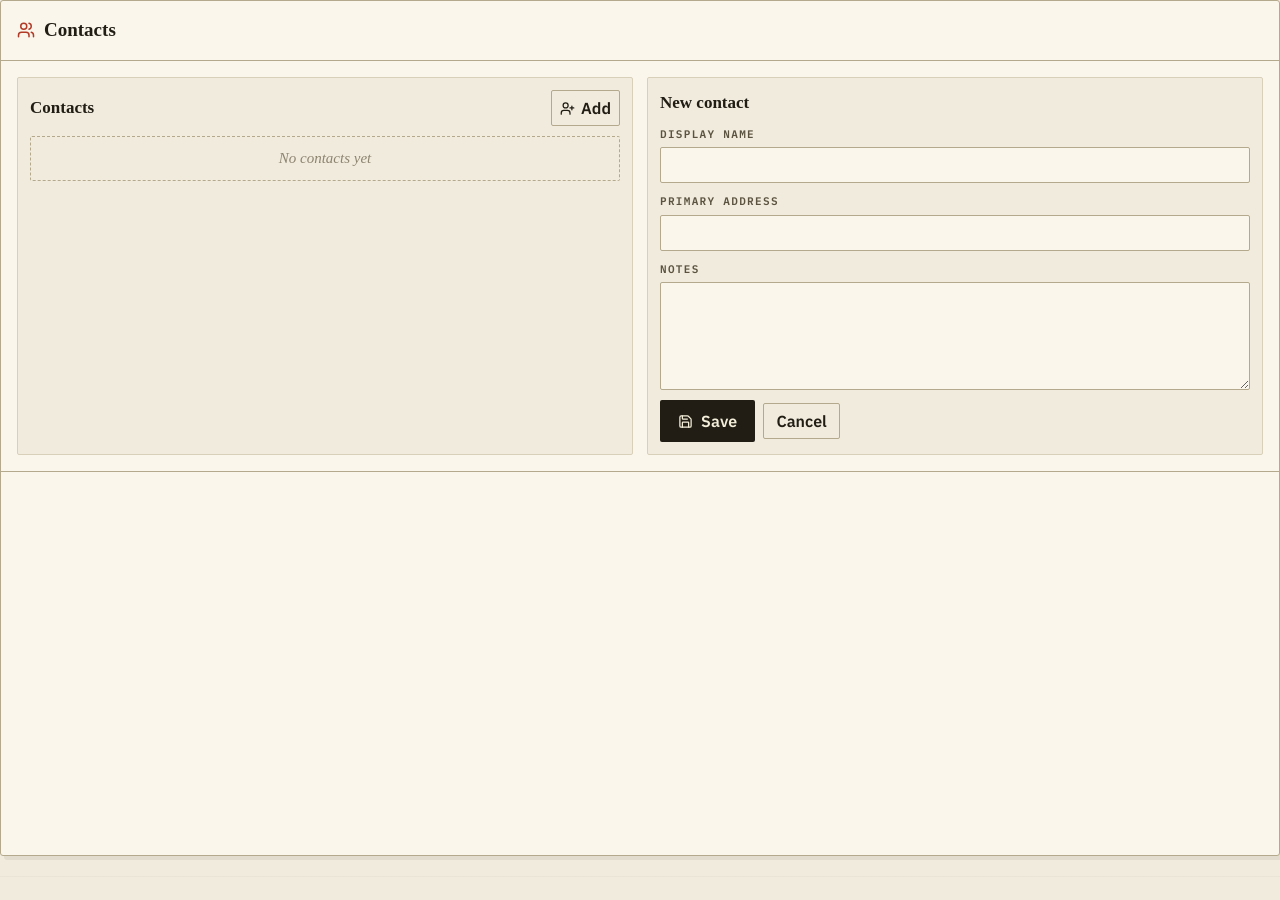
Test case: ContactsView › creates contacts
Expected: the text "No contacts yet" is shown, [30,136,620,180]
Type "Support" into the field labelled "Display name" at {"x": 955, "y": 165}, box [660,147,1250,183]
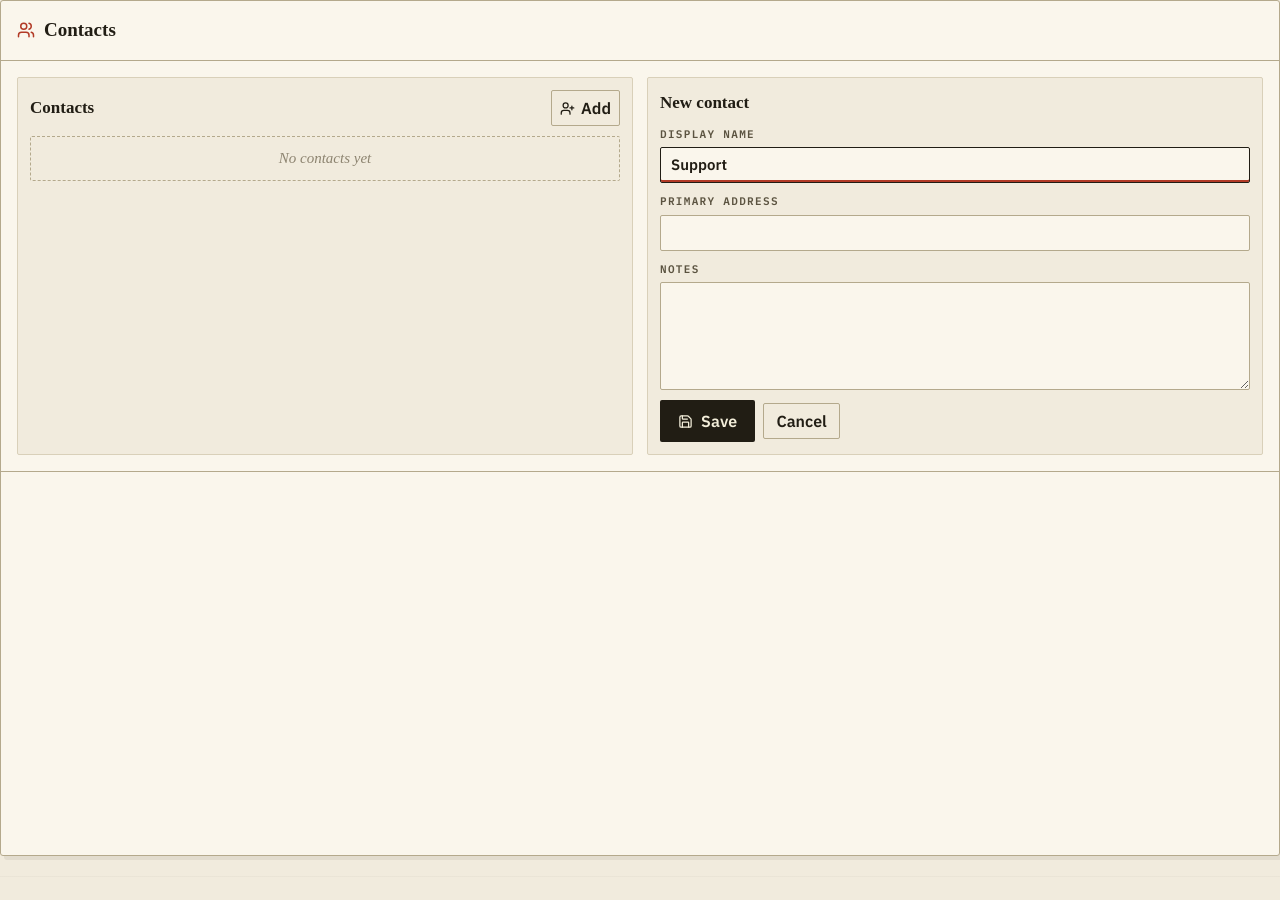
Type "Support@Ahara.IO" into the field labelled "Primary address" at {"x": 955, "y": 232}, box [660,214,1250,250]
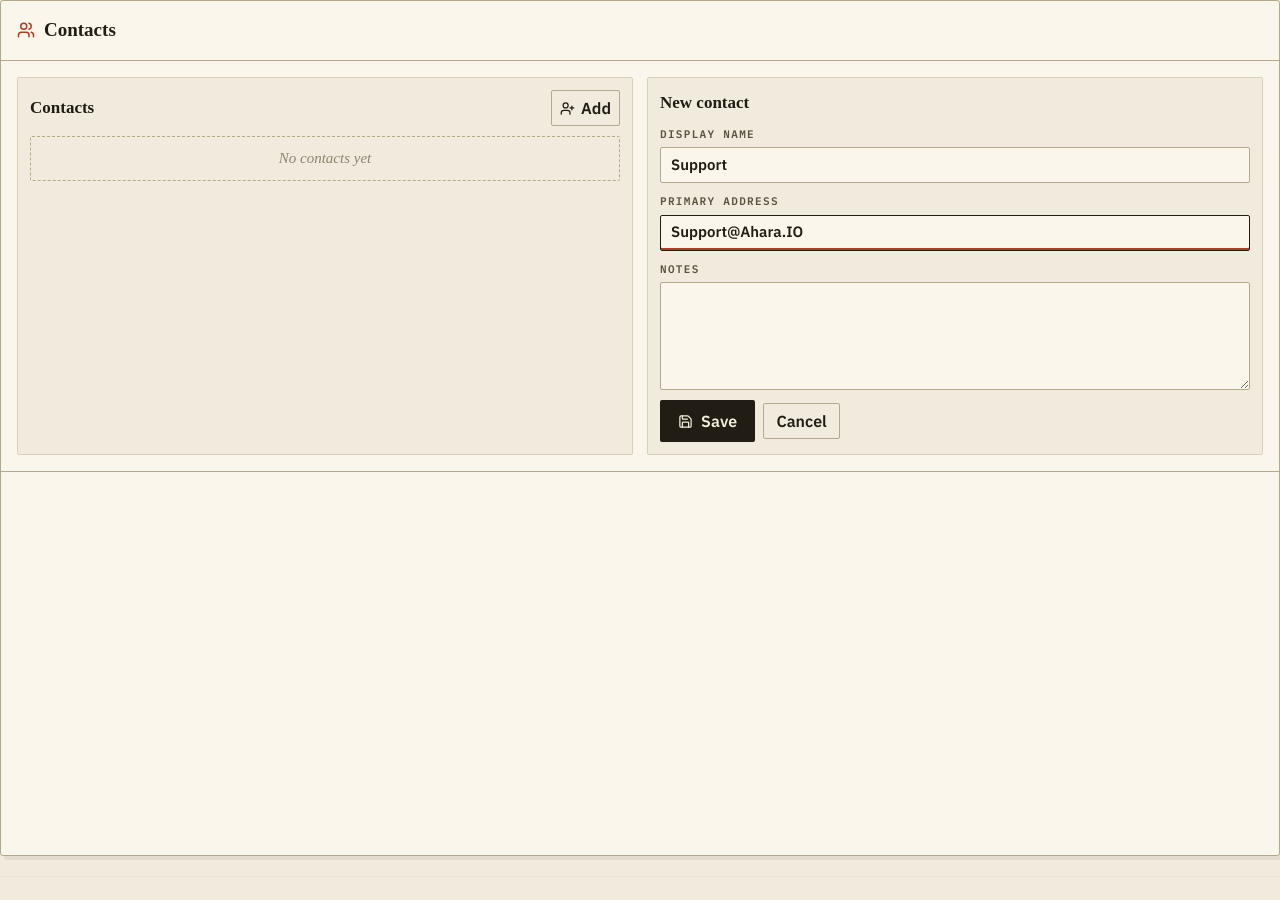
Type "intake" into the text box labelled "Notes" at {"x": 955, "y": 336}, box [660,282,1250,390]
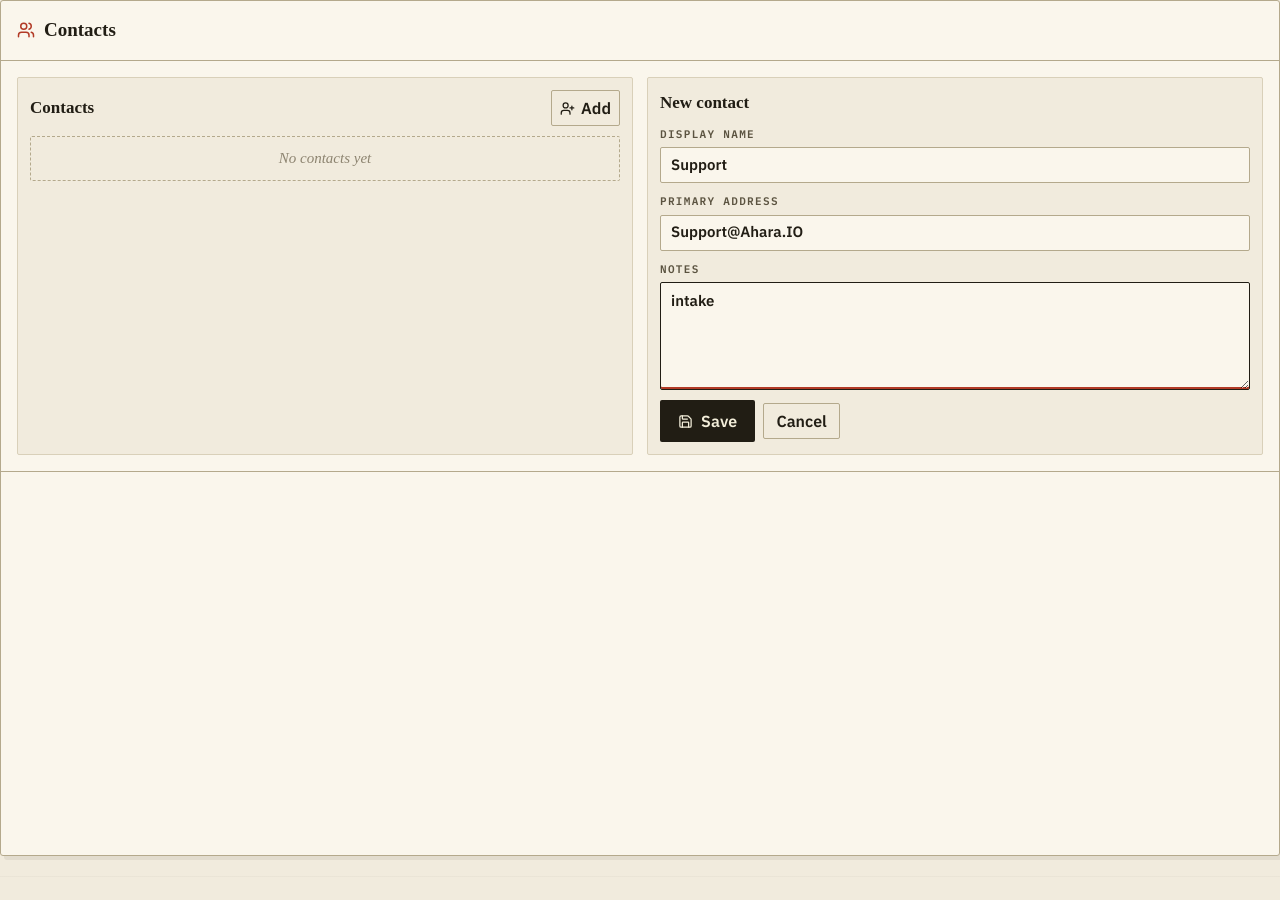
Click the button "Save" at {"x": 708, "y": 421}, box [660,400,755,442]
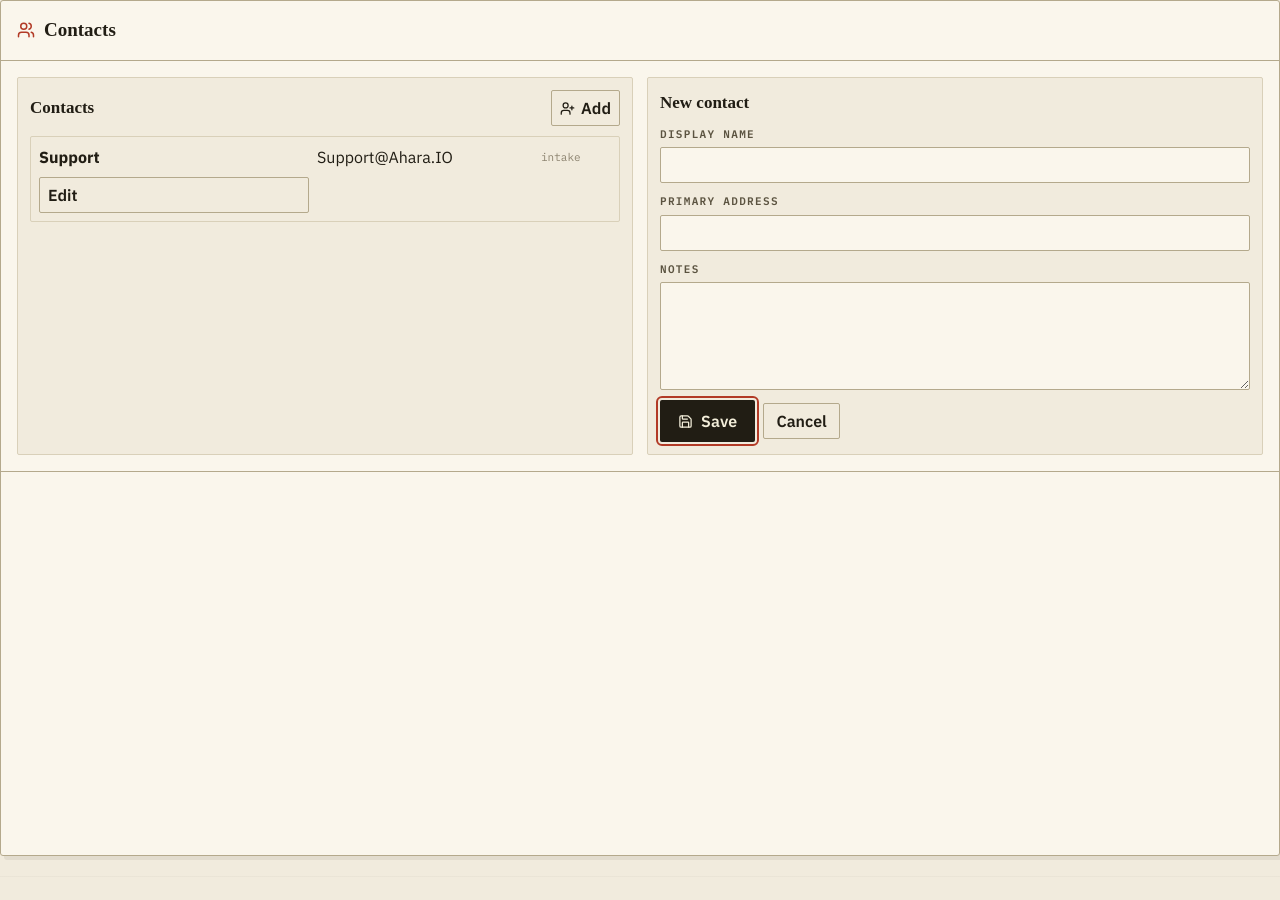
Expected: the text "Support" is shown, [39,147,100,167]
